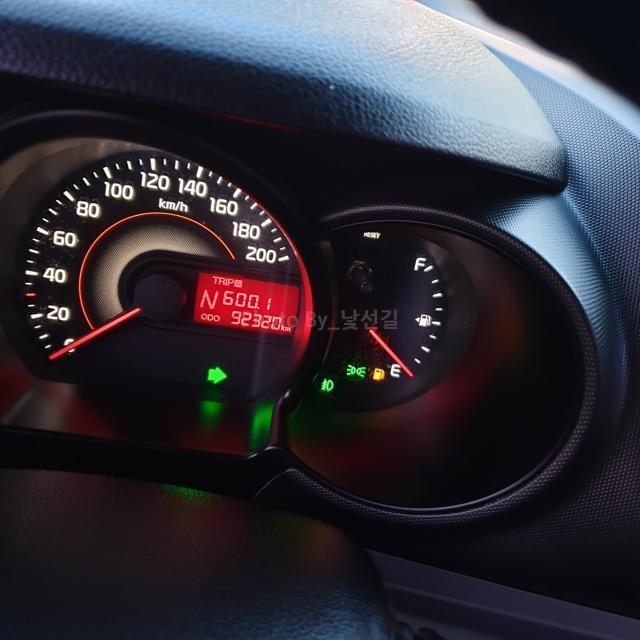FrontFogLight: (318, 377, 334, 392)
Low fuel level: (371, 368, 384, 380)
SideLamp: (344, 363, 366, 377)
